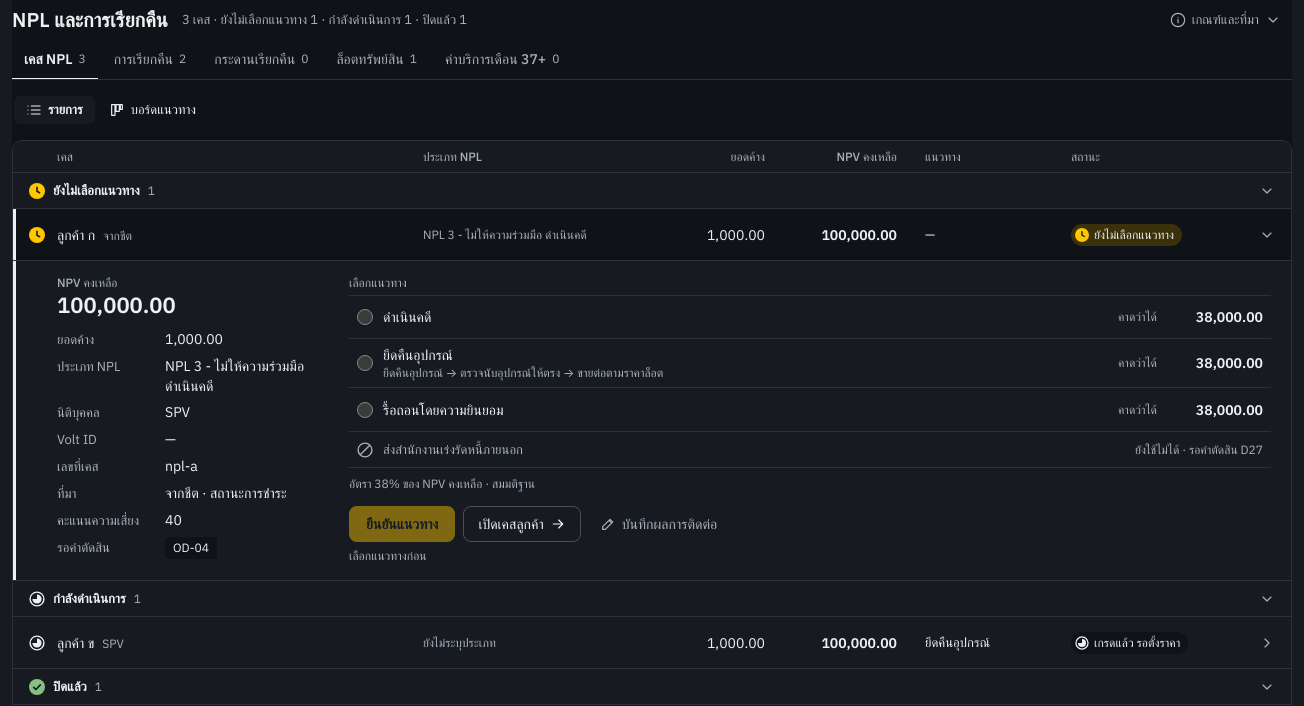
Test: NPL cases (design E glyph list) › shows the payment status of a declared case that is not NPL yet, and the case ref
The image size is (1304, 706).
Click the button "ลูกค้า ข".
click(76, 642)  # box [13,617,1291,669]
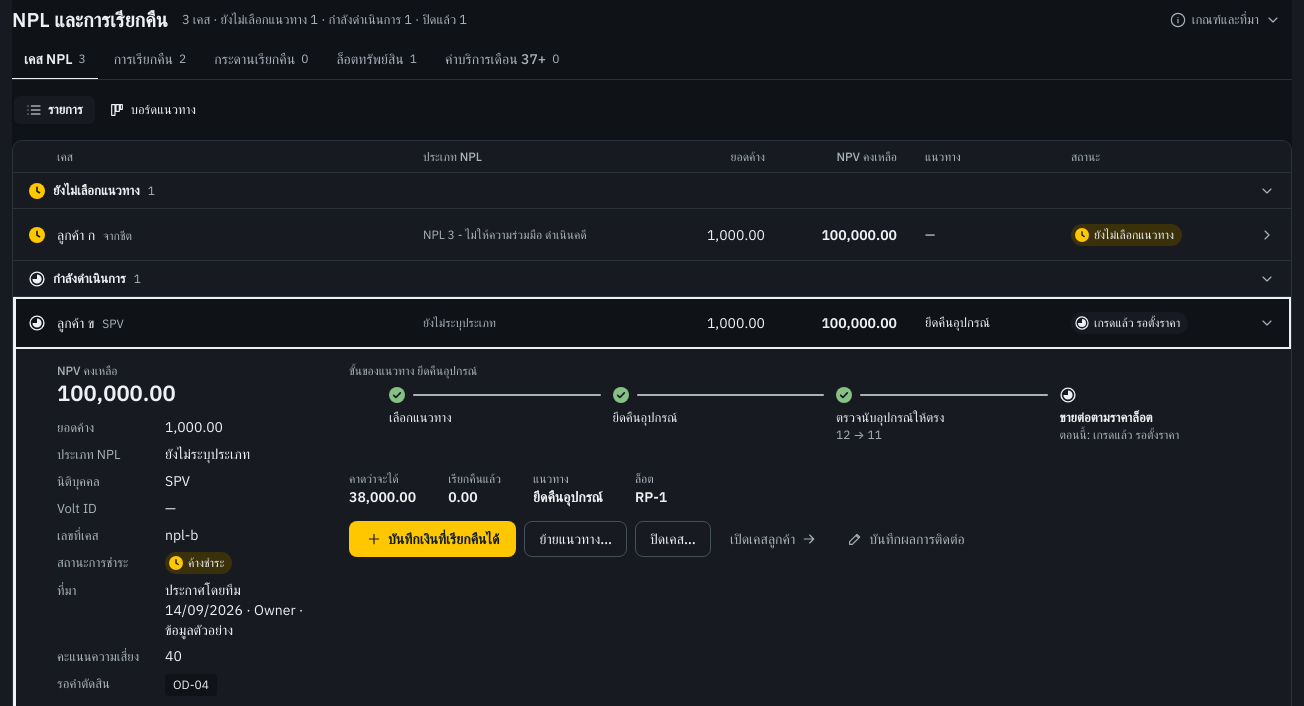
Check: the element showing "ค้างชำระ" is shown, box [165,552,232,574]
Check: the text "npl-b" is shown, box [165,526,198,544]
